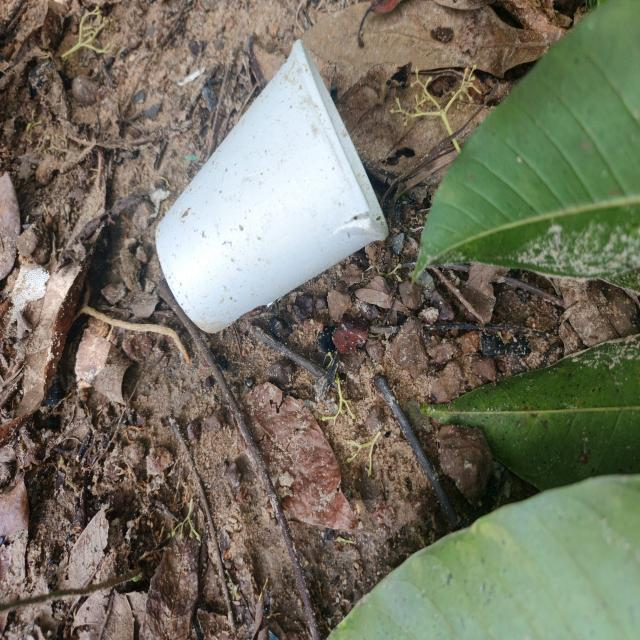plastic: (154, 35, 398, 339)
